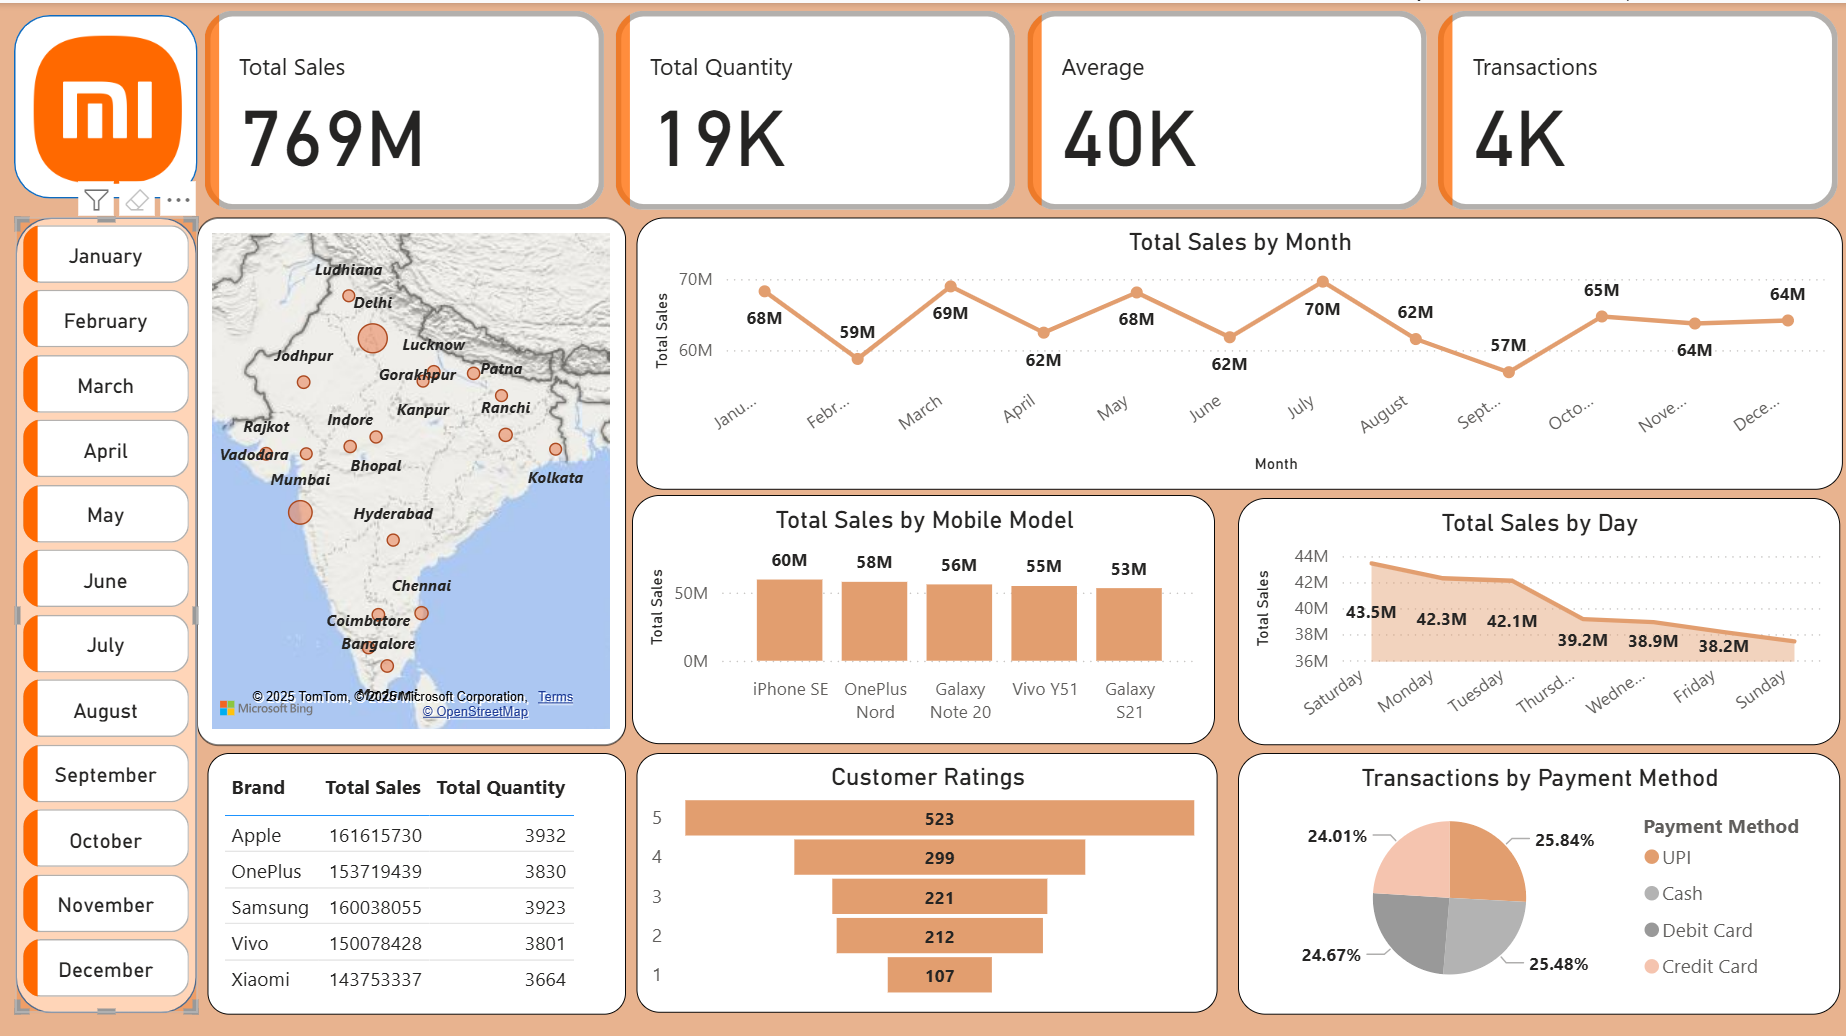

What the dashboard file says about the page in this screenshot:
{"tool":"powerbi","page":{"name":"Page 1","canvas":[1280,720],"ordinal":0},"visuals":[{"type":"shape","box":[10,8.6,127.1,127.1],"z":0},{"type":"image","box":[18.6,0,112.9,148.6],"z":1000},{"type":"shape","box":[11.4,148.6,125.7,551.4],"z":2000},{"type":"advancedSlicerVisual","fields":{"Values":["Sheet1.Date.Variation.Date Hierarchy.Month"]},"box":[11.4,148.6,125.7,551.4],"z":3000},{"type":"cardVisual","fields":{"Data":["Sales_data.Measure","Sales_data.Total Quantity","Sales_data.Average","Sales_data.Transactions"]},"box":[137.1,0,1142.9,148.6],"z":4000},{"type":"map","fields":{"Category":["Sales_data.City"],"Size":["Sales_data.Total Sales"]},"box":[137.1,148.6,297.1,365.7],"z":5000},{"type":"lineChart","fields":{"Y":["Sales_data.Total Sales"],"Category":["Sales_data.Date.Variation.Date Hierarchy.Month","Sales_data.Date.Variation.Date Hierarchy.Day"]},"box":[441.4,148.6,835.7,188.6],"z":6000},{"type":"clusteredColumnChart","fields":{"Y":["Sales_data.Total Sales"],"Category":["Sales_data.Mobile Model"]},"box":[438.6,341.4,404.3,172.9],"z":7000},{"type":"pieChart","fields":{"Category":["Sales_data.Payment Method"],"Y":["Sales_data.Transactions"]},"box":[858.6,520,417.1,181.4],"z":8000},{"type":"funnel","title":"Customer Ratings","fields":{"Category":["Sales_data.Customer Ratings"],"Y":["CountNonNull(Sales_data.Customer Ratings)"]},"box":[441.4,520,402.9,180],"z":9000},{"type":"stackedAreaChart","title":"Total Sales by Day ","fields":{"Category":["Sales_data.Day Name"],"Y":["Sales_data.Total Sales"]},"box":[858.6,342.9,417.1,171.4],"z":10000},{"type":"tableEx","fields":{"Values":["Sales_data.Brand","Sales_data.Total Sales","Sales_data.Total Quantity"]},"box":[144.3,520,290,181.4],"z":11002}]}

Visuals, with their boxes in screenshot pixels (x1, y1, x2, y2), scaled from the page's 1280x720 canvas onto the 1846x1036 screenshot:
shape: 14:12:198:195
image: 27:0:190:214
shape: 16:214:198:1007
advancedSlicerVisual - Sheet1.Date.Variation.Date Hierarchy.Month: 16:214:198:1007
cardVisual - Sales_data.Measure x Sales_data.Total Quantity: 198:0:1845:214
map - Sales_data.City x Sales_data.Total Sales: 198:214:626:740
lineChart - Sales_data.Total Sales x Sales_data.Date.Variation.Date Hierarchy.Month: 637:214:1842:485
clusteredColumnChart - Sales_data.Total Sales x Sales_data.Mobile Model: 633:491:1216:740
pieChart - Sales_data.Payment Method x Sales_data.Transactions: 1238:748:1840:1009
"Customer Ratings" funnel: 637:748:1218:1007
"Total Sales by Day " stackedAreaChart: 1238:493:1840:740
tableEx - Sales_data.Brand x Sales_data.Total Sales: 208:748:626:1009
